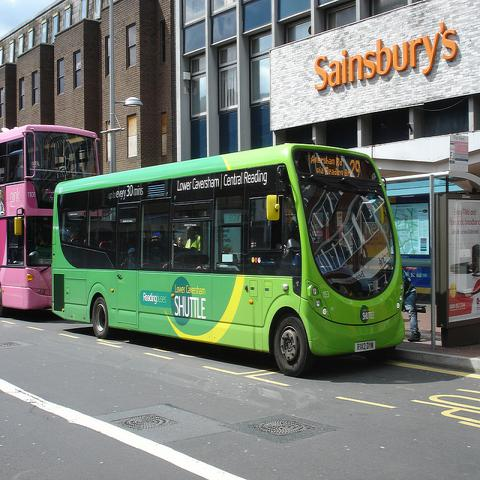bus: (49, 144, 406, 368), (0, 124, 105, 311)
